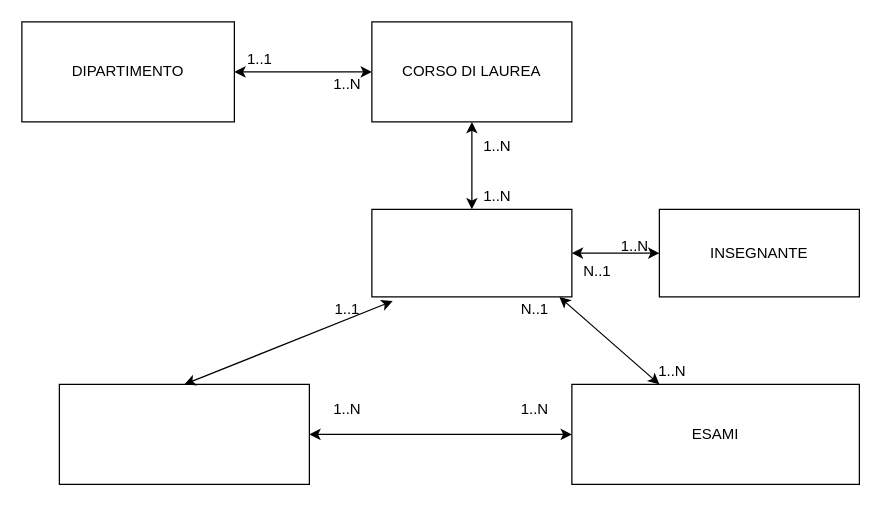
This 881x506 diagram has some shape labels left out. Each missing label, with the centre of its shape:
"CORSI" belongs at point (471, 252).
"STUDENTI" belongs at point (183, 433).
